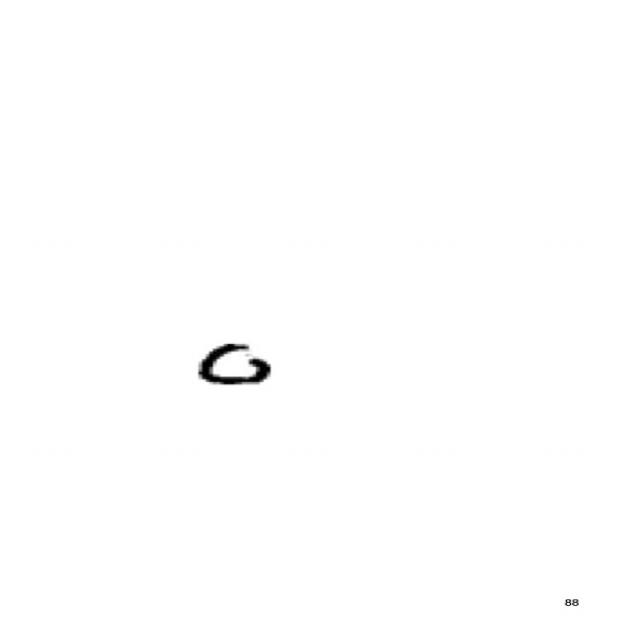5 -five-: (183, 335, 281, 397)
